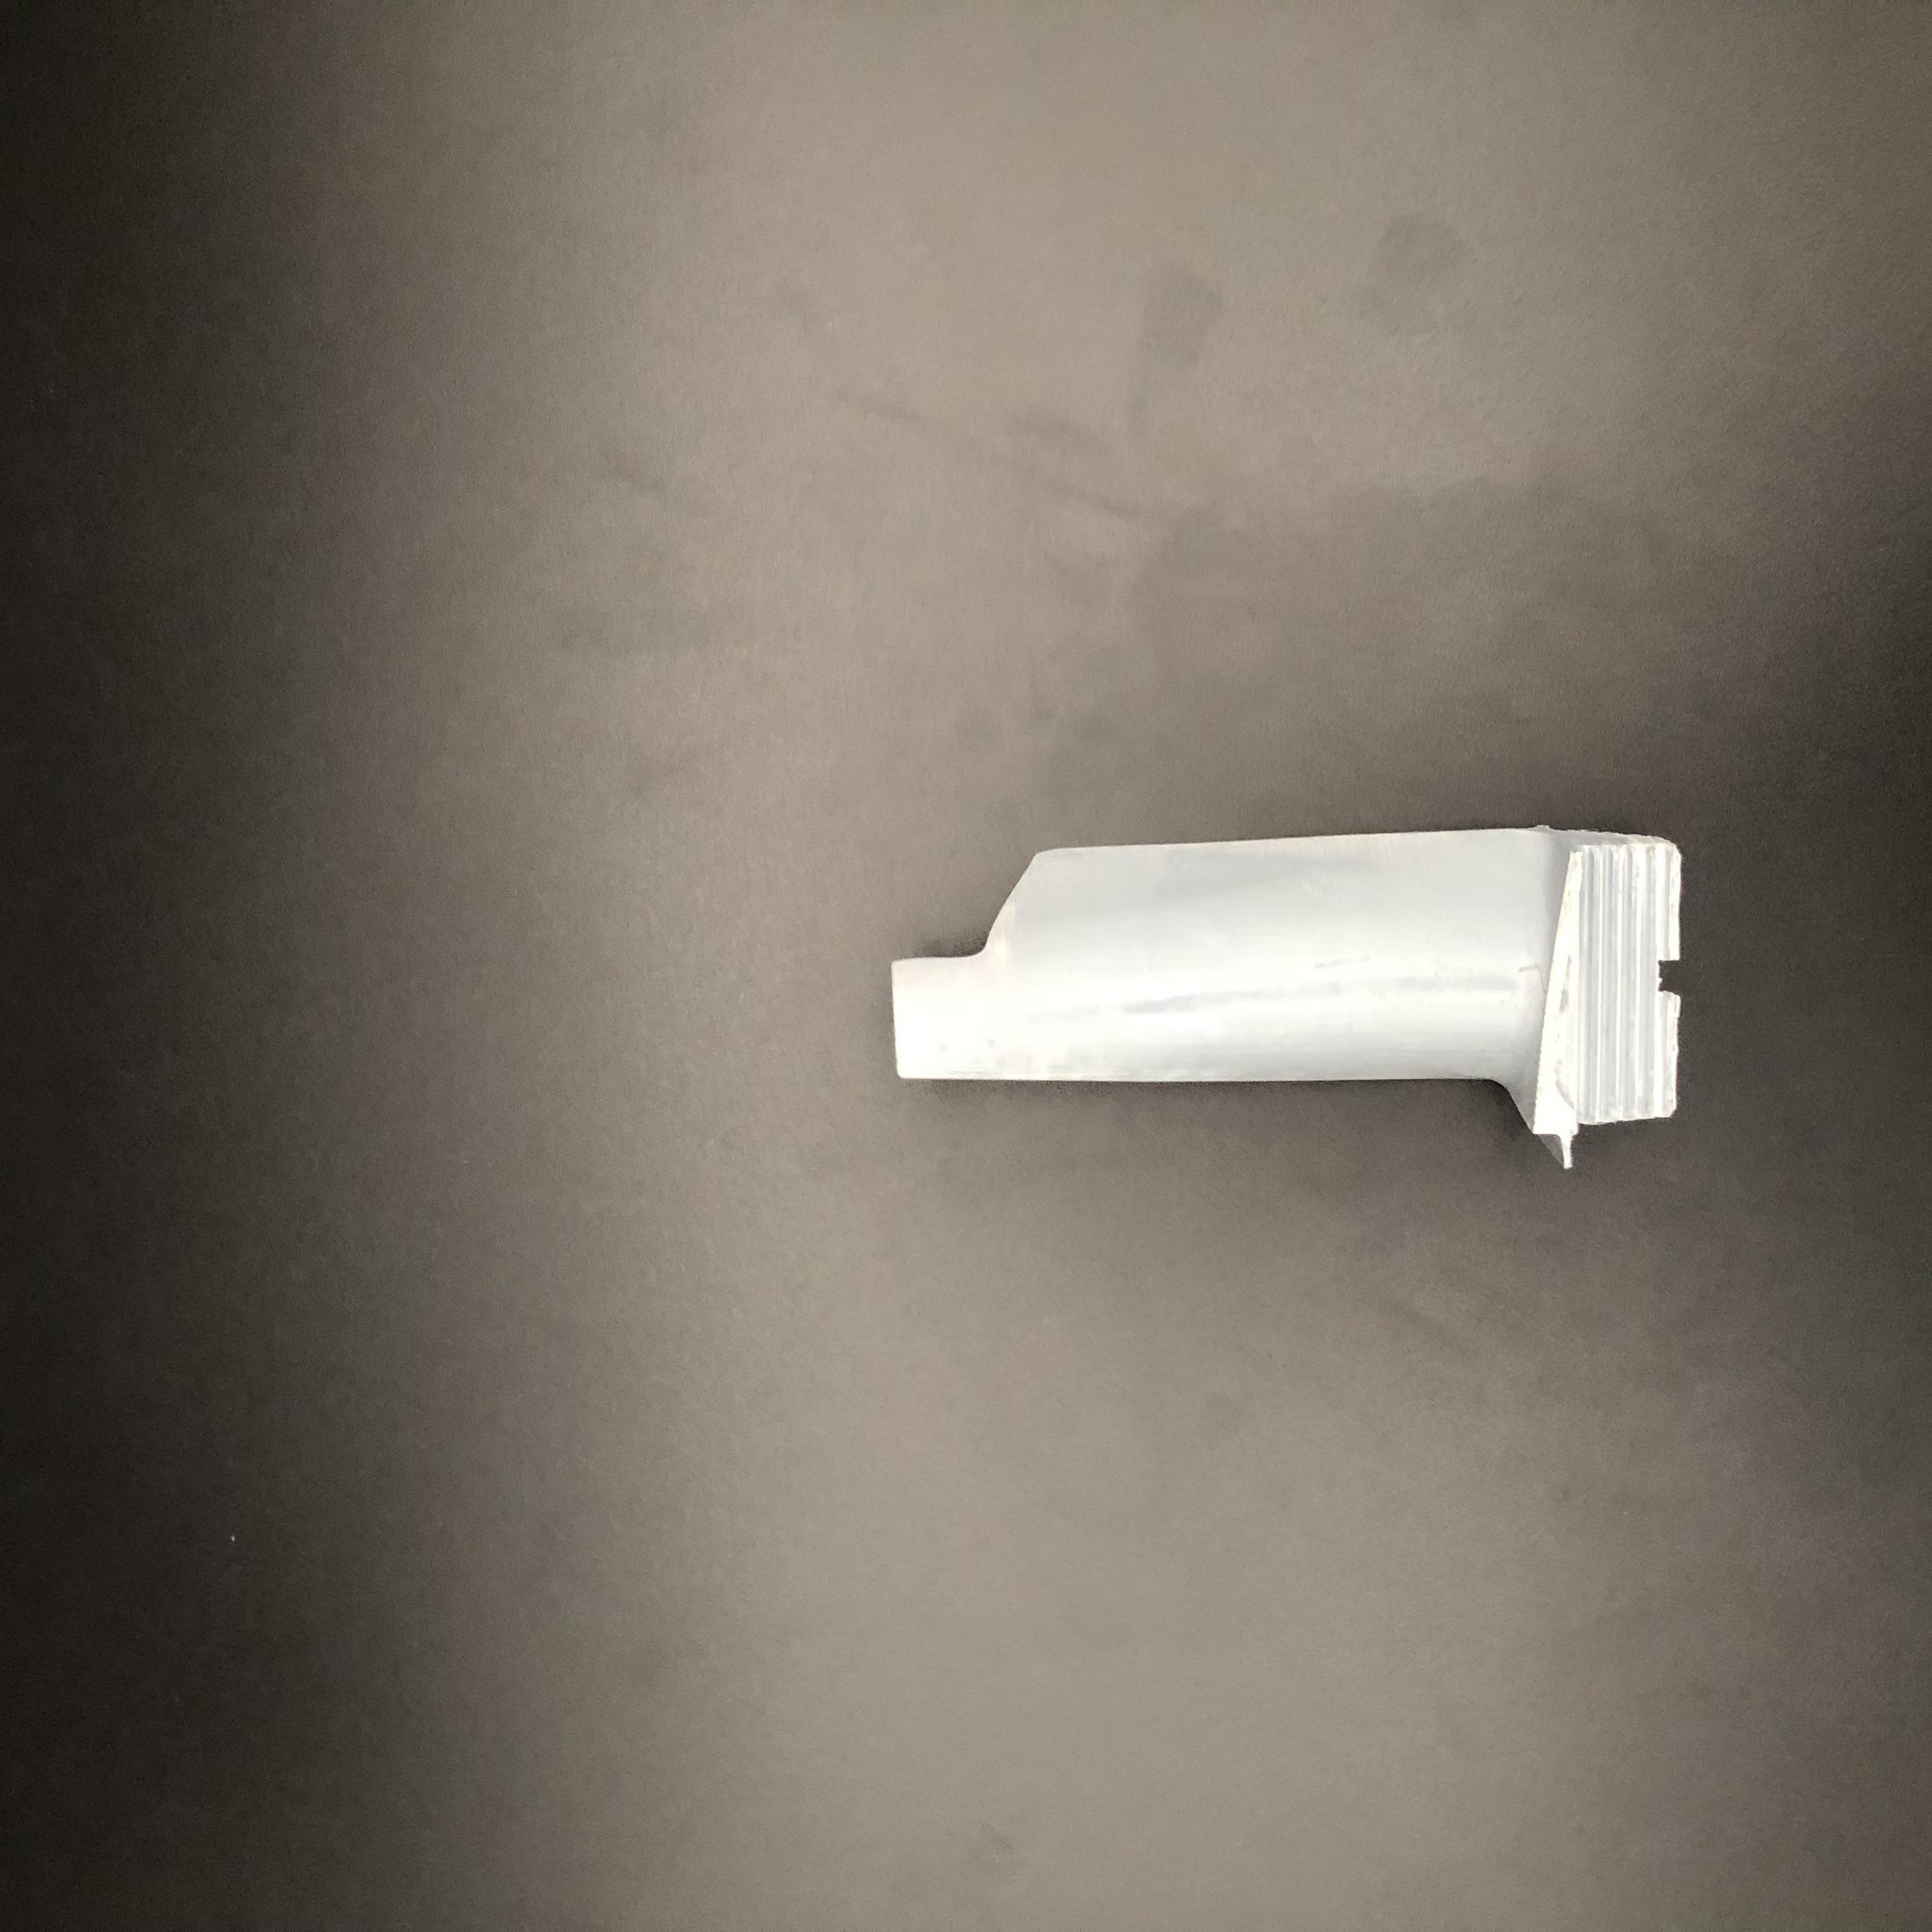fracture: (895, 846, 1070, 971)
